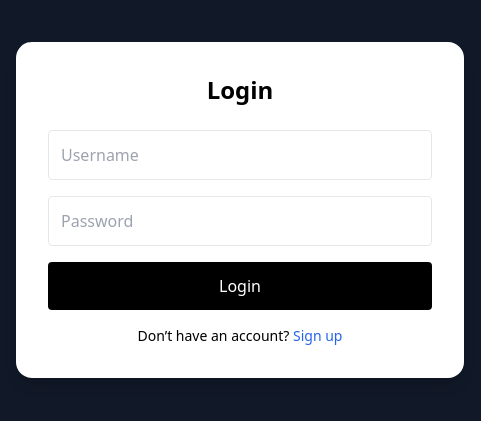
Scenario: Login page › clears the error message while typing
Click the button "Login" at (240, 286), box 48,262 -> 432,310
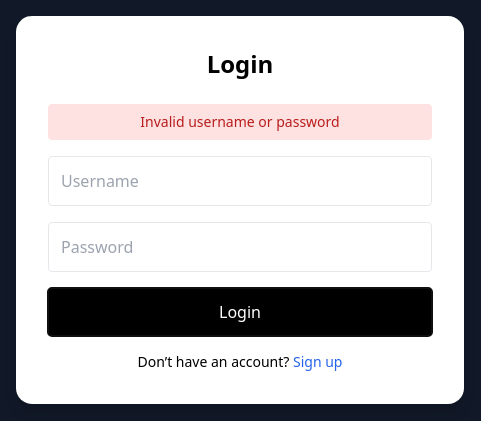
Result: the text "Invalid username or password" is shown at 48,104 -> 432,140
Type "a" into the field with placeholder "Username" at (240, 181), box 48,156 -> 432,206
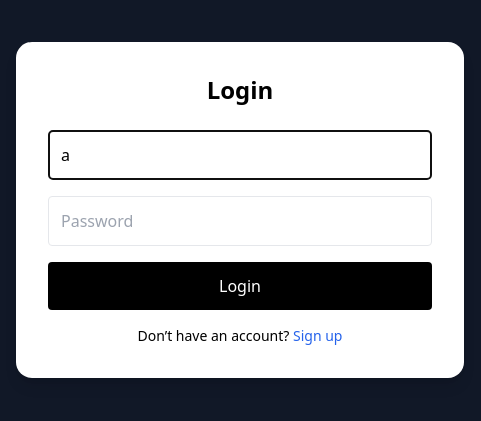
Result: the text "Invalid username or password" is gone
